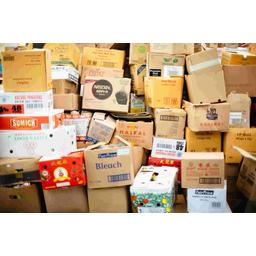cardboard: (76, 141, 143, 192), (80, 71, 141, 120), (1, 45, 55, 97), (184, 52, 229, 112)
